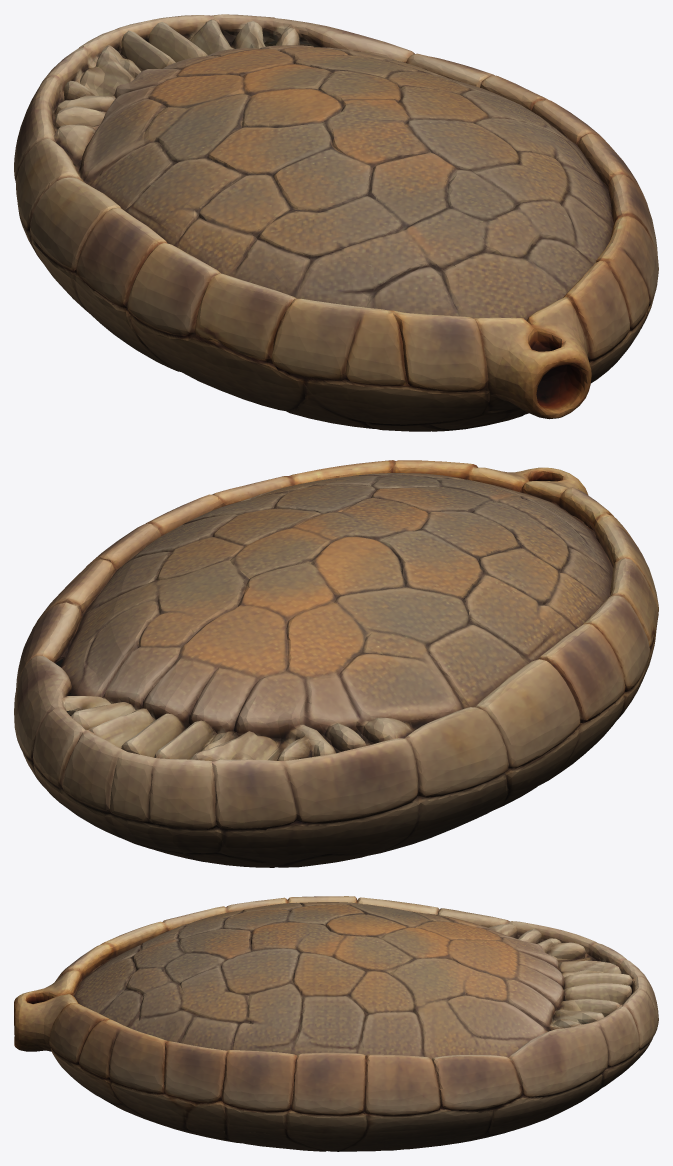
3 views of the same model, one above another, from view 1: azimuth 30°, elevation 25°; view 2: azimuth 150°, elevation 25°; view 3: azimuth 270°, elevation 25° (orthographic). The views are drawn at different scales.
Parts seen in each view (by area): view 1: world; view 2: world; view 3: world.
Part boxes in pixels (x1,y1,x2,y2): world: (14, 14, 658, 431); world: (14, 460, 658, 867); world: (14, 896, 658, 1151).
Bounding box in the file's own units: 0.6773 × 0.2991 × 1.
Materials: 1 (1 with a texture image).
